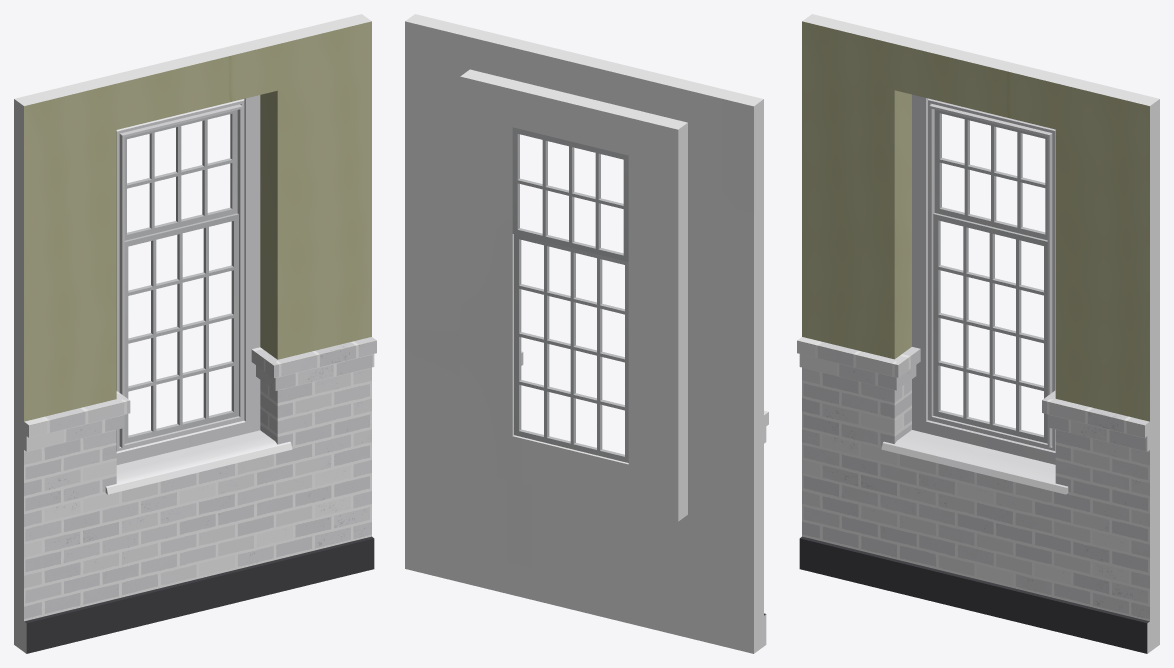
File: SM_Buildings_WallWindow_2x3_01.fbx
3 views of the same model, side by side, from view 1: azimuth 30°, elevation 25°; view 2: azimuth 150°, elevation 25°; view 3: azimuth 330°, elevation 25° (orthographic).
Parts seen in each view (by area): view 1: SM_Buildings_WallWindow_2x3_01; view 2: SM_Buildings_WallWindow_2x3_01; view 3: SM_Buildings_WallWindow_2x3_01.
Part boxes in pixels (x1,y1,x2,y2): SM_Buildings_WallWindow_2x3_01: (14, 14, 376, 653); SM_Buildings_WallWindow_2x3_01: (405, 14, 768, 653); SM_Buildings_WallWindow_2x3_01: (797, 14, 1159, 653).
Size of the model in its own units: 200 by 300 by 24.64.
1 material, 1 textured.
